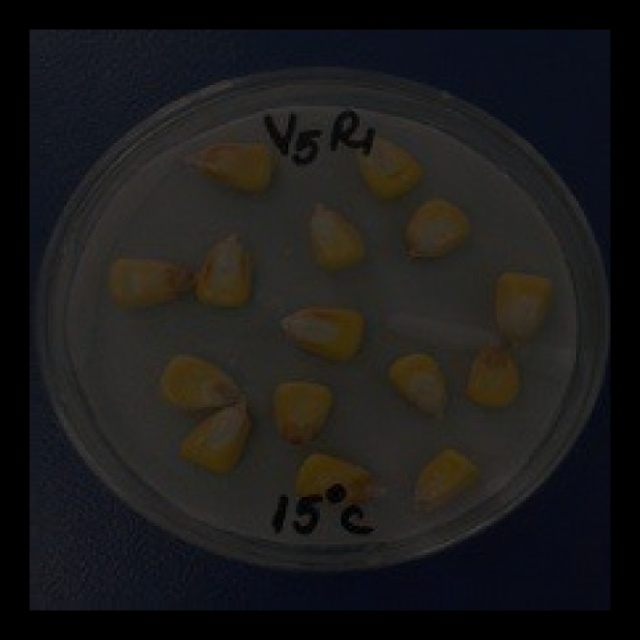Zea mays: (176, 400, 256, 483), (152, 350, 247, 413), (177, 140, 277, 199), (274, 306, 368, 367), (487, 271, 557, 352), (345, 133, 427, 202), (381, 352, 453, 428), (103, 254, 192, 315), (266, 378, 338, 452), (288, 453, 392, 504), (192, 233, 257, 313), (406, 447, 480, 517), (398, 199, 475, 265), (303, 201, 369, 277), (458, 343, 524, 417)
